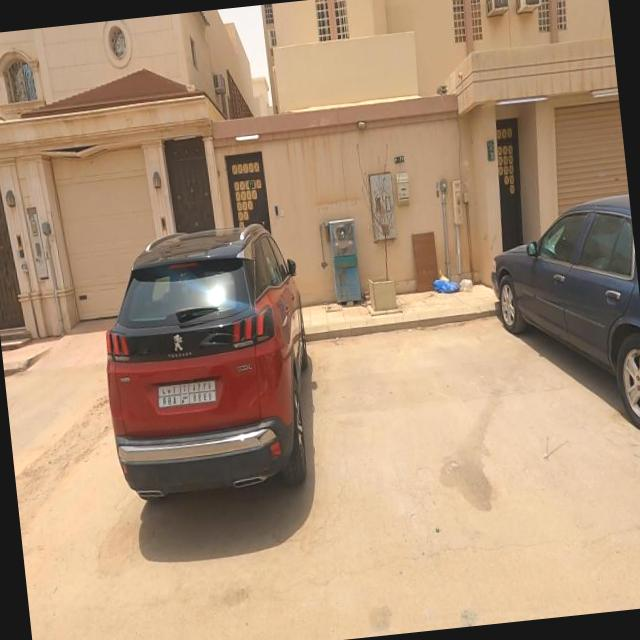debris: (402, 227, 491, 341)
